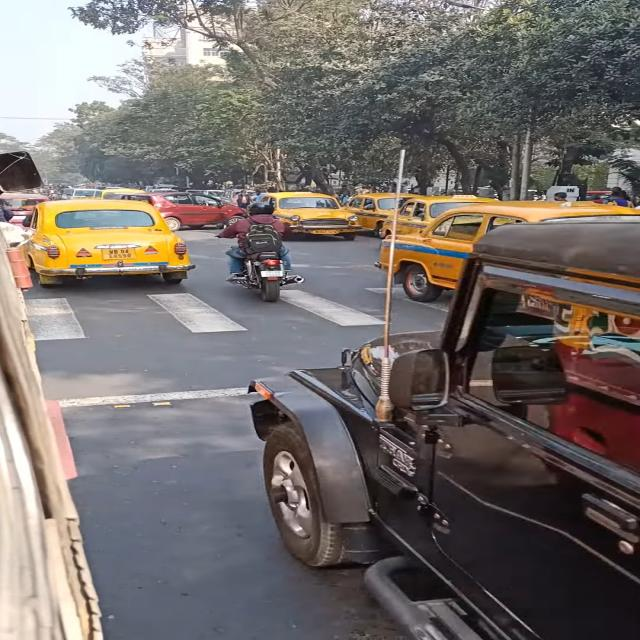Bike: (224, 204, 324, 300)
